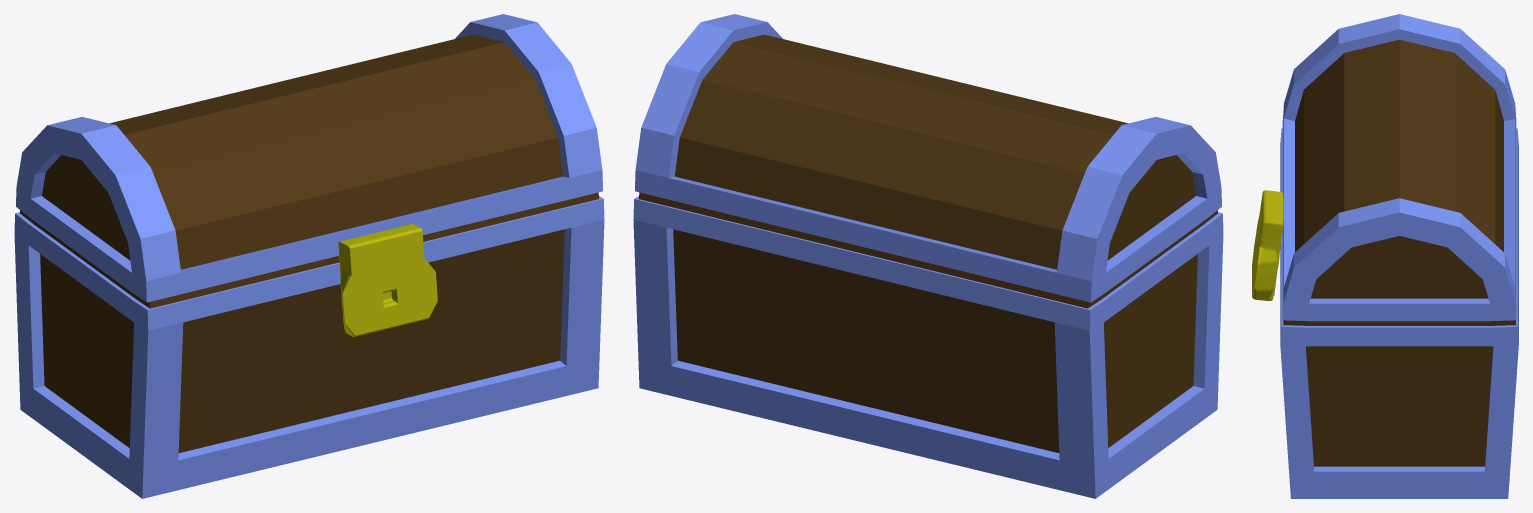
File: Treasure Chest.fbx
The picture shows the model from 3 angles, left to right: view 1: azimuth 30°, elevation 25°; view 2: azimuth 150°, elevation 25°; view 3: azimuth 270°, elevation 25°; orthographic projection. The views are drawn at different scales.
Visible parts, largest first — view 1: Chest, Lock; view 2: Chest; view 3: Chest, Lock.
Boxes of the visible parts, <box> form: Chest: <box>14,14,604,498</box>; Lock: <box>338,224,437,337</box>; Chest: <box>633,14,1223,498</box>; Chest: <box>1273,14,1518,498</box>; Lock: <box>1252,190,1283,300</box>.
Bounding box in the file's own units: 385 × 259 × 219.
